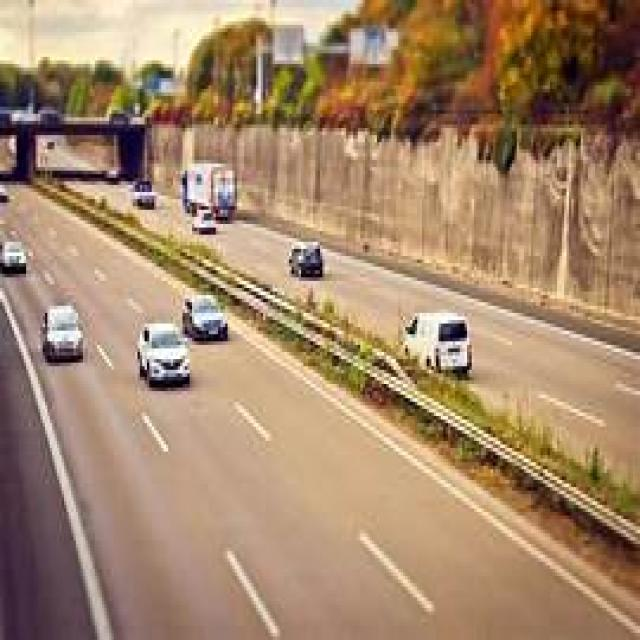Car: (405, 315, 471, 372), (140, 328, 189, 382), (43, 302, 83, 359), (183, 300, 227, 338), (291, 244, 323, 275), (0, 240, 26, 271)
Truck: (187, 169, 236, 218)
